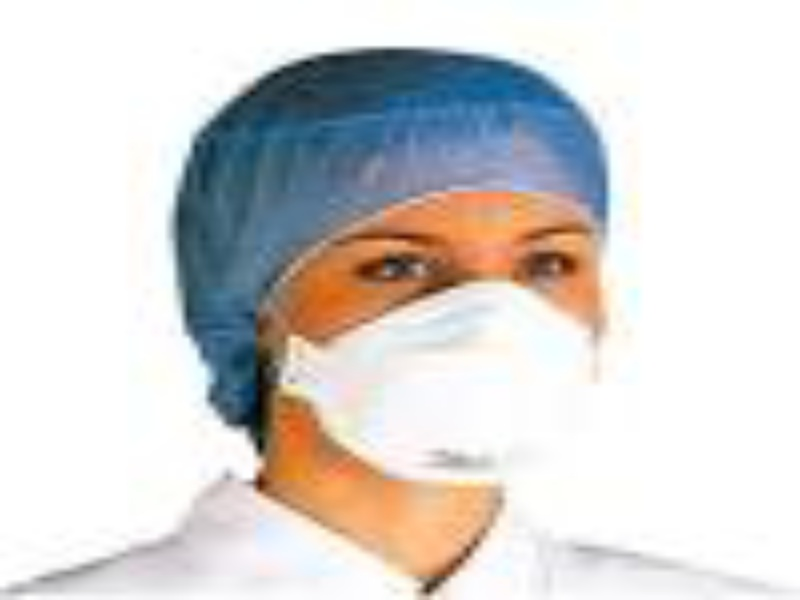ManaoArotava: (210, 91, 616, 526)
